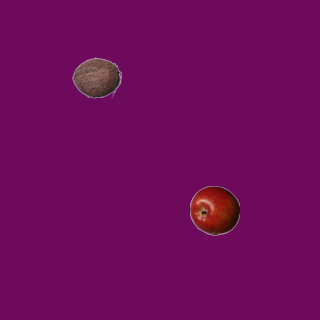Apple Braeburn: (189, 185, 239, 235)
Cocos: (71, 52, 121, 102)
